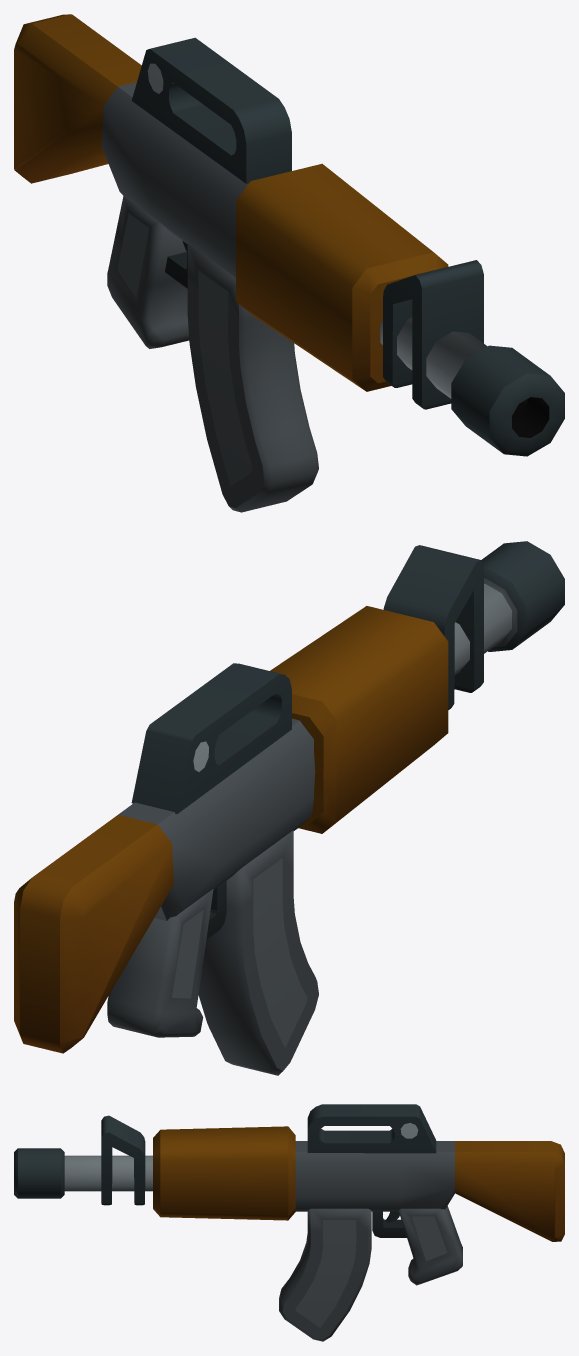
Rendered from SM_Wep_Rifle.fbx.
3 views of the same model, one above another, from view 1: azimuth 30°, elevation 25°; view 2: azimuth 150°, elevation 25°; view 3: azimuth 270°, elevation 25° (orthographic). The views are drawn at different scales.
Parts seen in each view (by area): view 1: SM_Wep_Rifle; view 2: SM_Wep_Rifle; view 3: SM_Wep_Rifle.
Part boxes in pixels (x1=…): SM_Wep_Rifle: x1=14, y1=14, x2=564, y2=512; SM_Wep_Rifle: x1=14, y1=541, x2=564, y2=1075; SM_Wep_Rifle: x1=14, y1=1104, x2=564, y2=1341.
Bounding box in the file's own units: 0.1504 × 0.5714 × 1.27.
